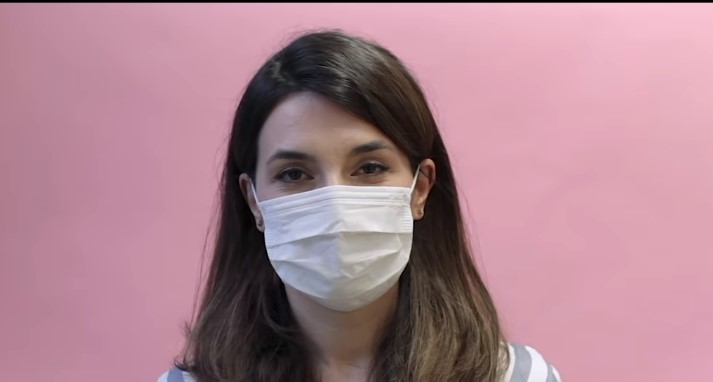face_with_mask: (235, 35, 441, 323)
